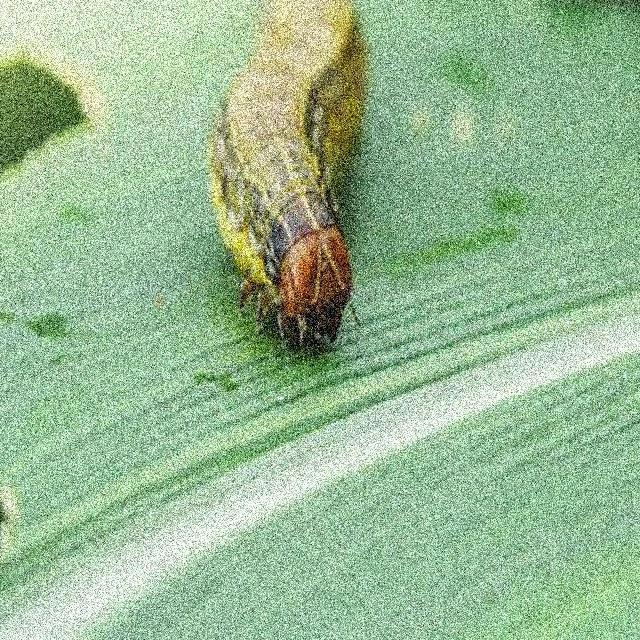gusano_cogollero: (217, 13, 360, 340)
